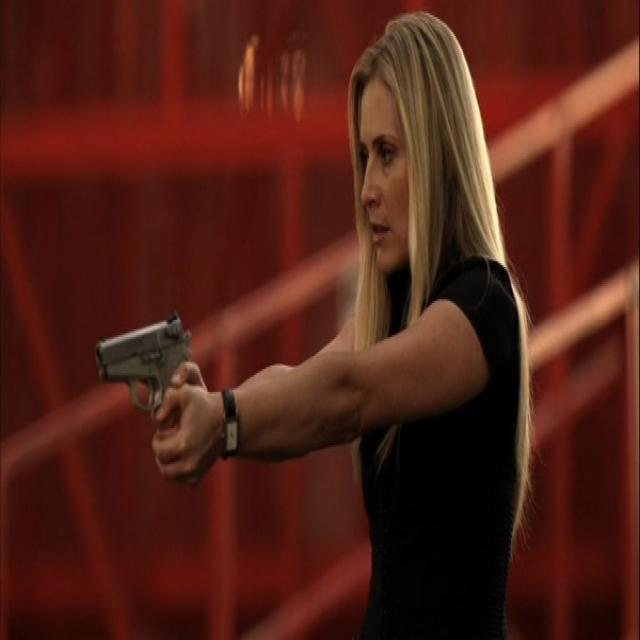weapons: (76, 286, 226, 500)
